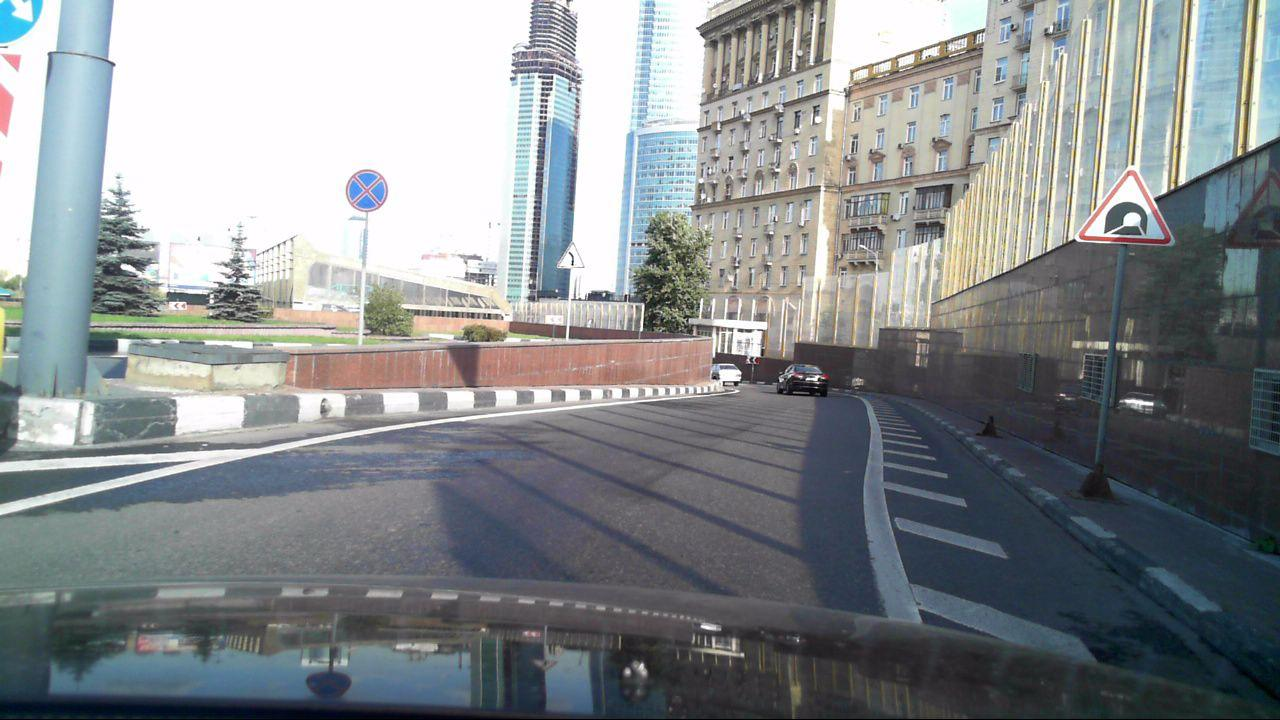1_11_2: (557, 238, 585, 271)
1_31: (1072, 164, 1180, 248)
3_27: (345, 168, 390, 213)
4_2_3: (0, 0, 43, 49)
8_22_3: (0, 55, 30, 176)
